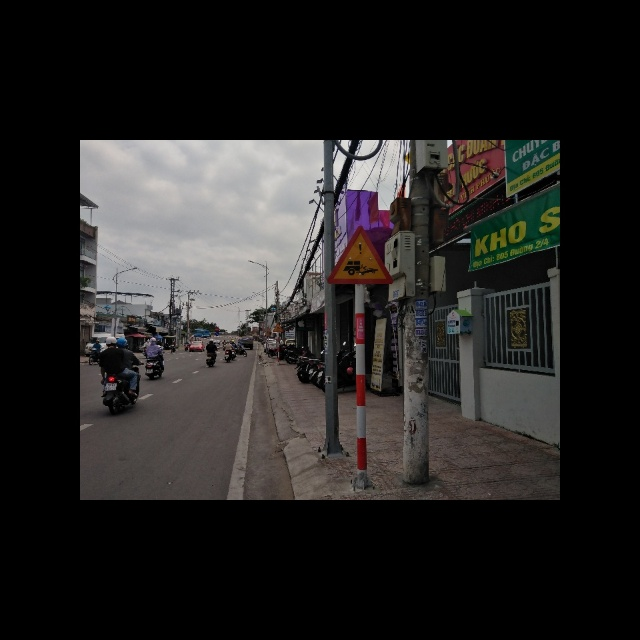Đoạn đường hay xảy ra tai nạn: (328, 222, 395, 284)
